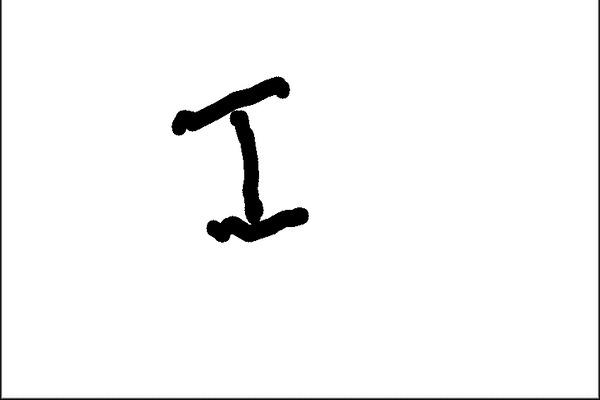i: (135, 69, 328, 256)
